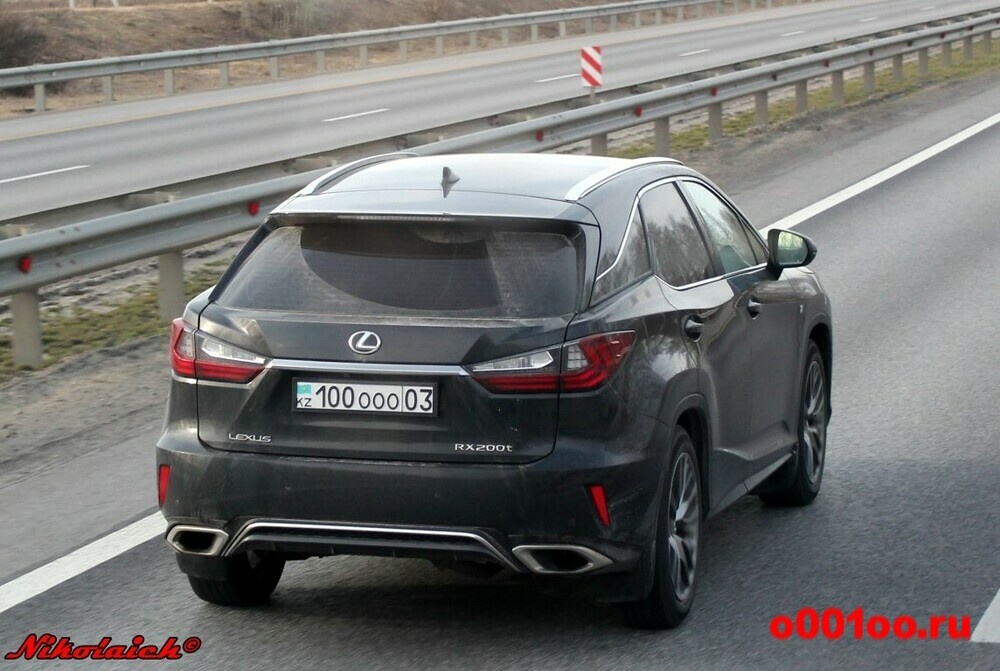license_plate: (294, 380, 440, 416)
